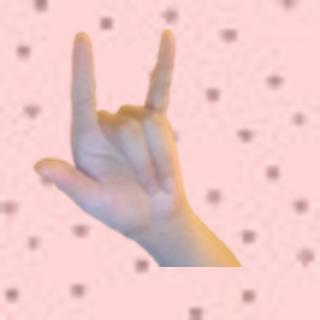ILY: (28, 22, 199, 238)
